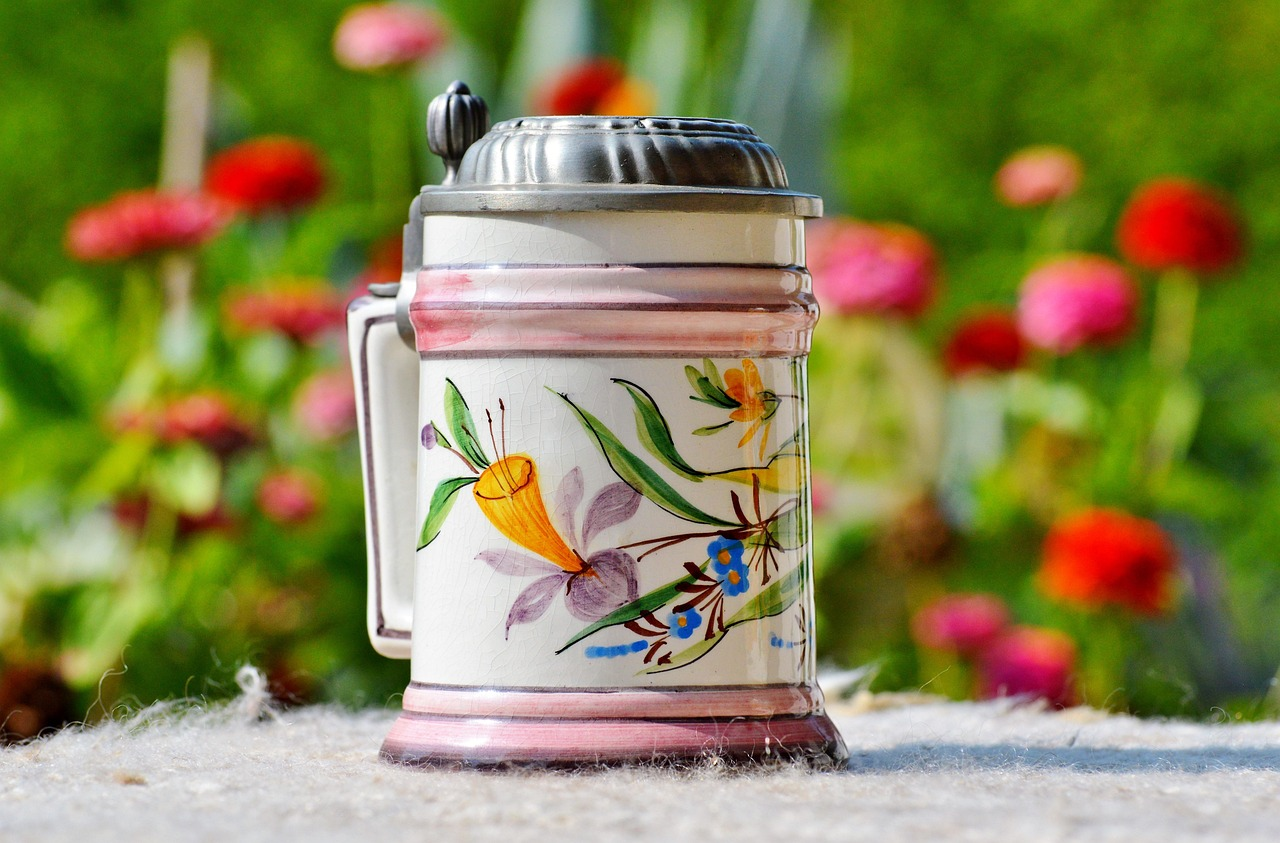mug: (257, 101, 926, 752)
